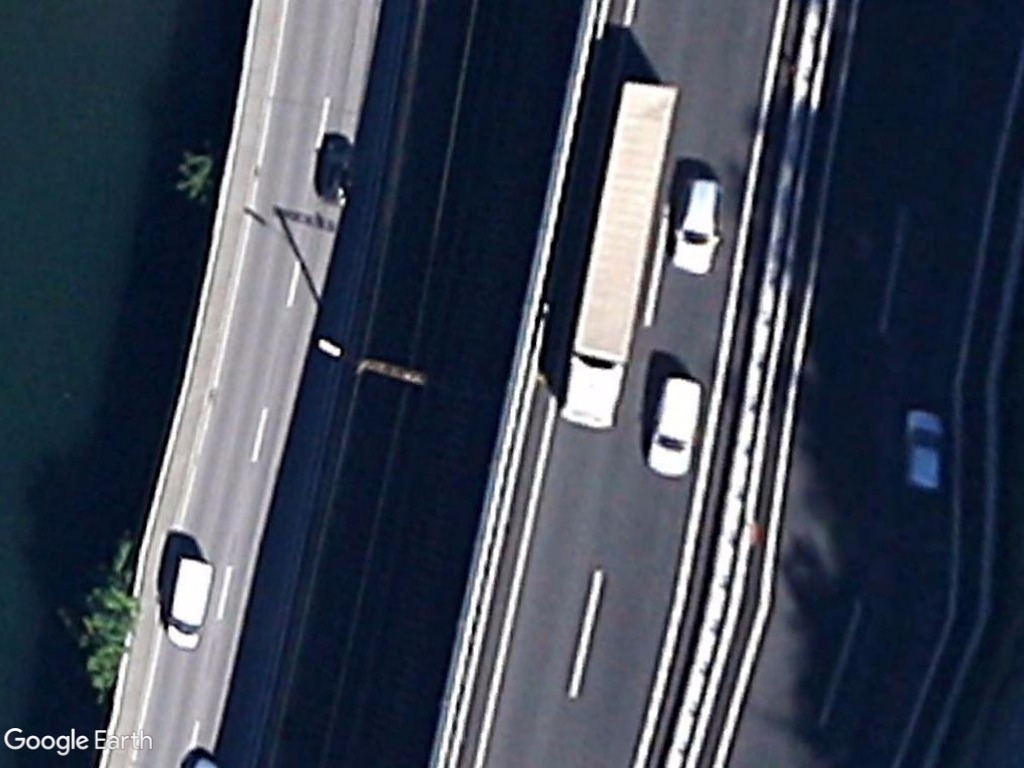car: (641, 369, 710, 482), (668, 172, 730, 280)
longvehicle: (556, 74, 687, 432)
van: (159, 548, 217, 654)
